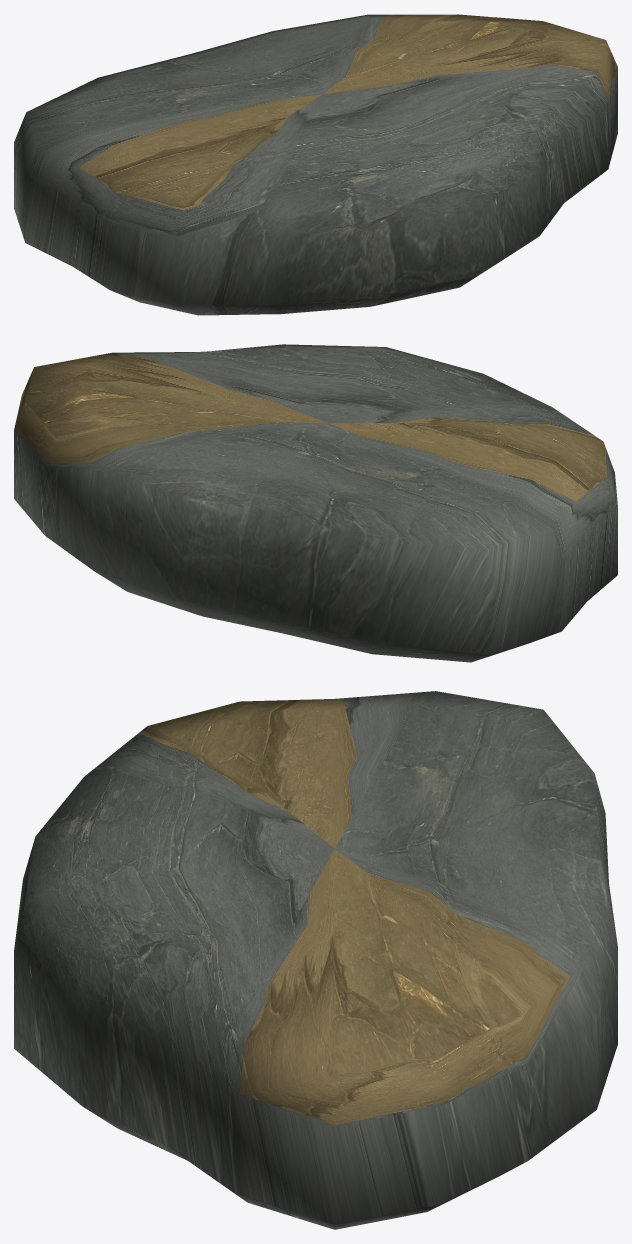
Rendered from kit_sf_lookout_stone_p.glb.
The picture shows the model from 3 angles, top to bottom: view 1: azimuth 30°, elevation 25°; view 2: azimuth 150°, elevation 25°; view 3: azimuth 270°, elevation 25°; orthographic projection. The views are drawn at different scales.
Visible parts, largest first — view 1: kit_sf_lookout_stone_p; view 2: kit_sf_lookout_stone_p; view 3: kit_sf_lookout_stone_p.
Boxes of the visible parts, x1,y1,x2,y2 form: kit_sf_lookout_stone_p: (14,14,617,315); kit_sf_lookout_stone_p: (14,344,617,662); kit_sf_lookout_stone_p: (14,691,617,1229).
Size of the model in its own units: 1.94 by 0.4619 by 1.24.
Materials: 1 (1 with a texture image).
